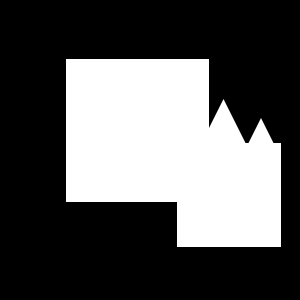circle: (66, 59, 209, 202), (177, 143, 281, 247)
triangle: (179, 99, 268, 188), (243, 118, 279, 154)
